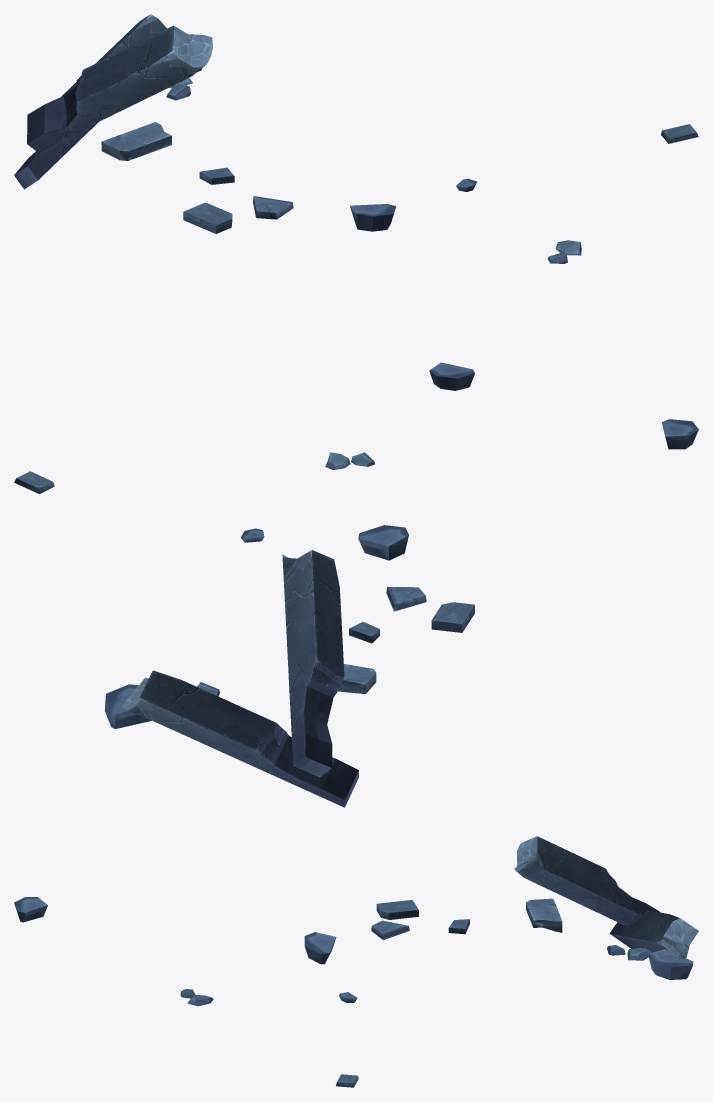
File: Area06_3.fbx
3 views of the same model, one above another, from view 1: azimuth 30°, elevation 25°; view 2: azimuth 150°, elevation 25°; view 3: azimuth 270°, elevation 25° (orthographic). The views are drawn at different scales.
Parts seen in each view (by area): view 1: Area06_3; view 2: Area06_3; view 3: Area06_3.
Part boxes in pixels (x1,y1,x2,y2): Area06_3: [14, 14, 698, 390]; Area06_3: [14, 419, 698, 807]; Area06_3: [14, 836, 698, 1087].
Size of the model in its own units: 2485 by 880 by 3683.
Materials: 1 (1 with a texture image).
